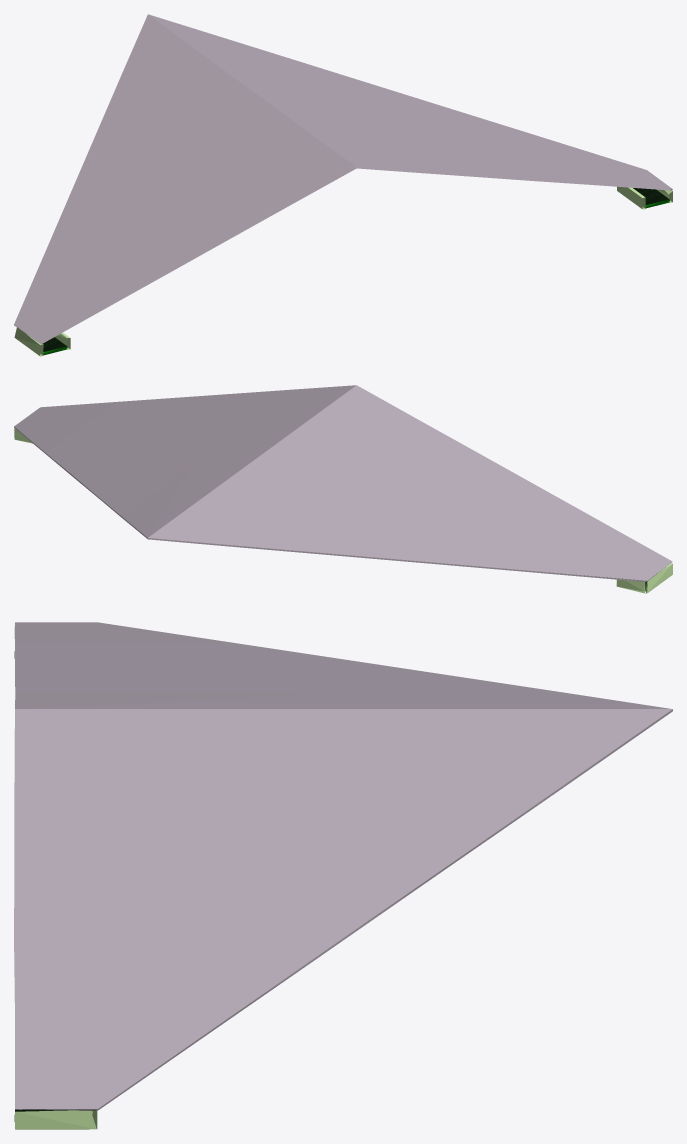
Rendered from SM_House_Roof_B_Merge.fbx.
The picture shows the model from 3 angles, top to bottom: view 1: azimuth 30°, elevation 25°; view 2: azimuth 150°, elevation 25°; view 3: azimuth 270°, elevation 25°; orthographic projection. The views are drawn at different scales.
Parts seen in each view (by area): view 1: SM_House_Roof_B_Merge; view 2: SM_House_Roof_B_Merge; view 3: SM_House_Roof_B_Merge.
Part boxes in pixels (box(x1,y1,x2,y2)): SM_House_Roof_B_Merge: box(14, 14, 672, 356); SM_House_Roof_B_Merge: box(14, 385, 672, 593); SM_House_Roof_B_Merge: box(14, 622, 672, 1129).
Bounding box in the file's own units: 1051 × 601 × 181.
